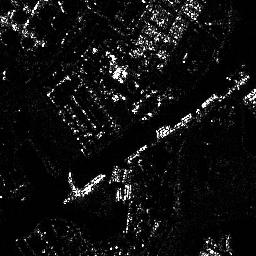ship: (64, 175, 110, 203)
